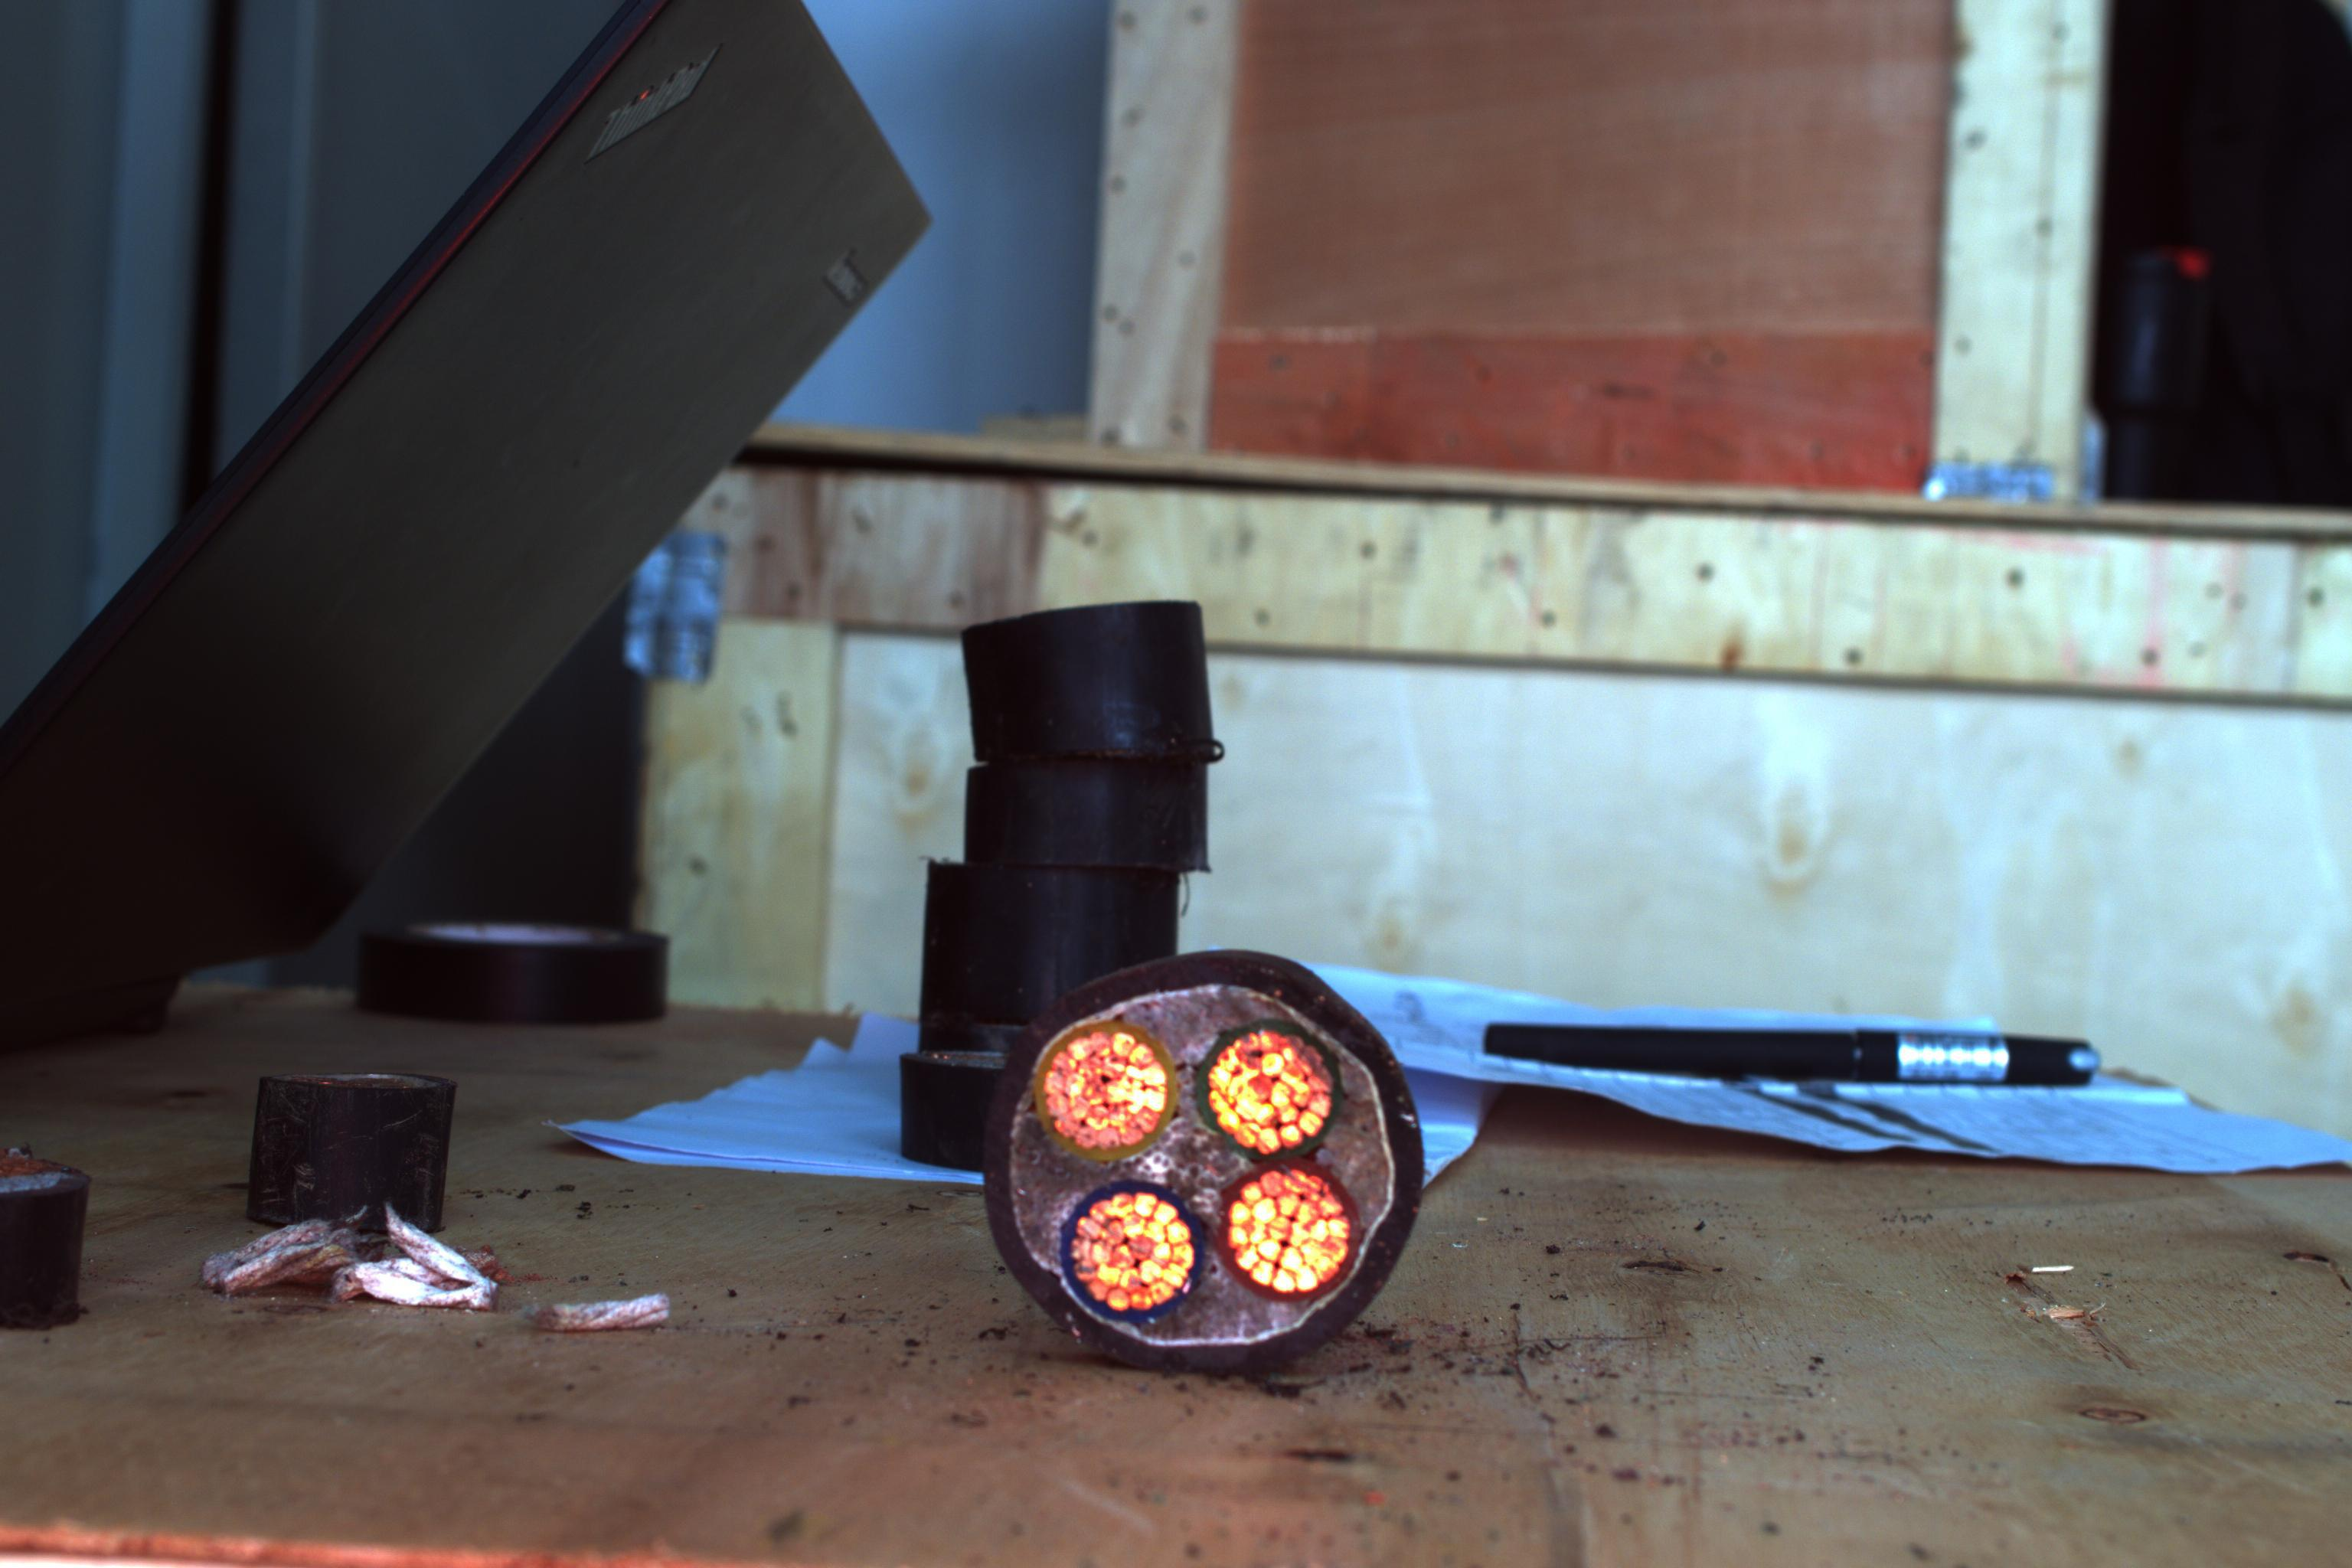YJV_0.6_1kV_4x120: (994, 954, 1423, 1360)
